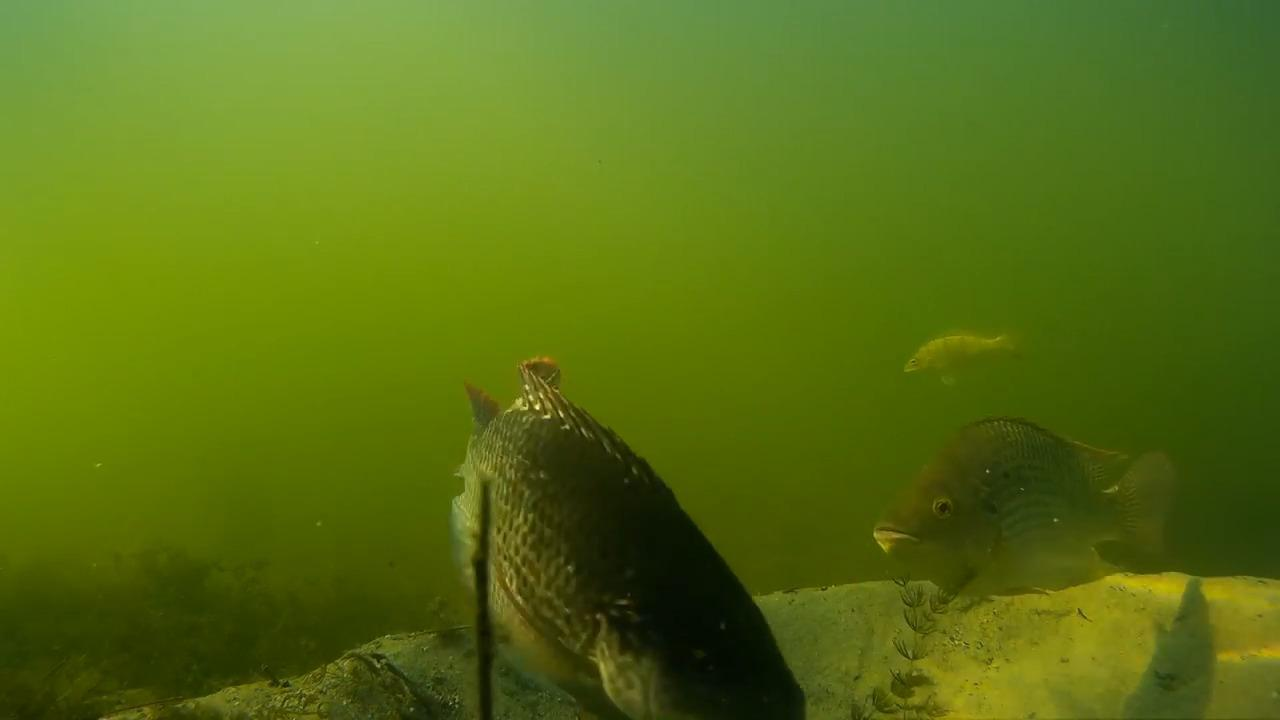Tilapia: (433, 330, 850, 720), (875, 430, 1178, 590), (893, 318, 1044, 390)
